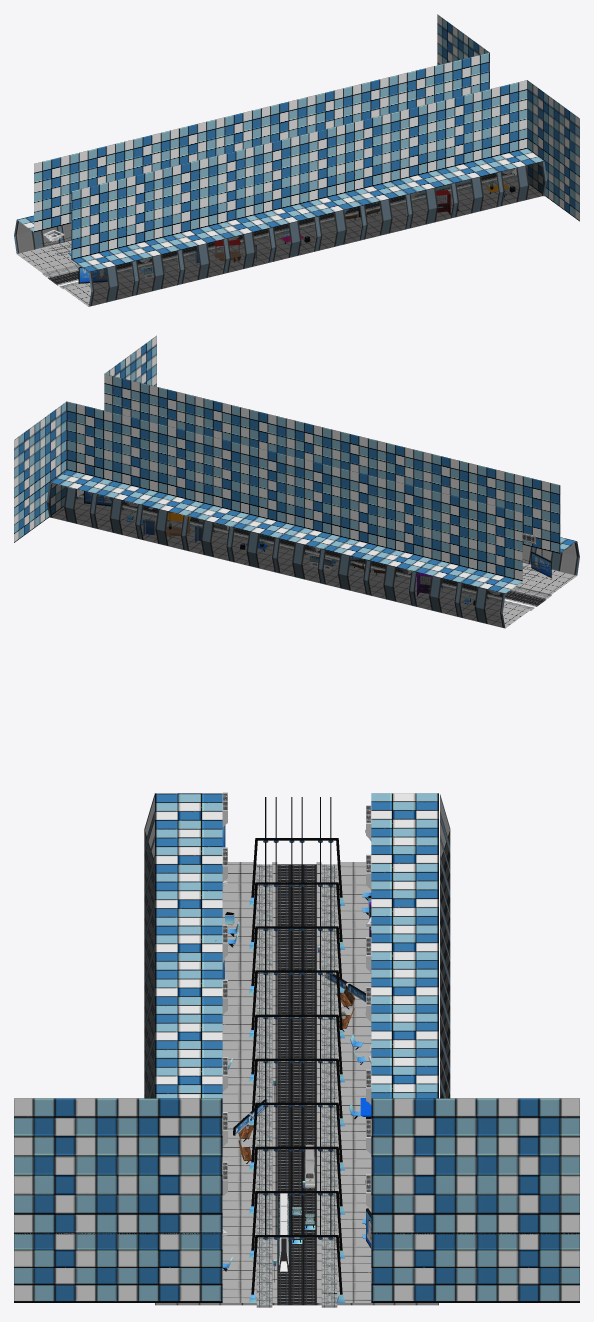
The model's file is subwaysurferstest28.glb.
3 views of the same model, one above another, from view 1: azimuth 30°, elevation 25°; view 2: azimuth 150°, elevation 25°; view 3: azimuth 270°, elevation 25° (orthographic). The views are drawn at different scales.
Visible parts, largest first — view 1: tiledwall.016, tiledwall, tiledwall.005, tiledwall.018, tiledwall.019, tiledwall.024, tiledwall.006, tiledwall.017, tiledwall.003, tiledwall.023, tiledwall.025, tiledwall.001 (+35 smaller); view 2: tiledwall.013, tiledwall.021, tiledwall.025, tiledwall.009, tiledwall.012, tiledwall.022, tiledwall.020, tiledwall.027, tiledwall.007, tiledwall.026, tiledwall.024, tiledwall.008 (+36 smaller); view 3: tiledwall.014, tiledwall.008, tiledwall.002, tiledwall.001, tiledwall.010, tiledwall.004, tiledwall.015, tiledwall.011, tiledwall.017, tiledwall.018, tiledwall.019, tiledwall.020 (+40 smaller).
Boxes of the visible parts, x1,y1,x2,y2 form: tiledwall.016: (162, 158, 224, 249); tiledwall: (481, 80, 543, 171); tiledwall.005: (390, 102, 452, 194); tiledwall.018: (253, 136, 316, 227); tiledwall.019: (208, 147, 270, 238); tiledwall.024: (71, 180, 133, 272); tiledwall.006: (345, 113, 407, 205); tiledwall.017: (299, 124, 361, 216); tiledwall.003: (436, 91, 498, 183); tiledwall.023: (117, 169, 179, 260); tiledwall.025: (17, 152, 79, 232); tiledwall.001: (527, 80, 553, 167); tiledwall.013: (50, 401, 112, 493); tiledwall.021: (278, 457, 340, 548); tiledwall.025: (460, 501, 522, 593); tiledwall.009: (141, 423, 203, 515); tiledwall.012: (95, 412, 157, 504); tiledwall.022: (232, 446, 294, 537); tiledwall.020: (323, 468, 385, 560); tiledwall.027: (369, 479, 431, 571); tiledwall.007: (187, 435, 248, 526); tiledwall.026: (415, 490, 476, 582); tiledwall.024: (514, 474, 576, 553); tiledwall.008: (14, 421, 40, 508); tiledwall.014: (371, 1098, 475, 1234); tiledwall.008: (475, 1098, 579, 1234); tiledwall.002: (14, 1098, 118, 1234); tiledwall.001: (118, 1098, 222, 1234); tiledwall.010: (14, 1233, 118, 1302); tiledwall.004: (118, 1233, 222, 1302); tiledwall.015: (371, 1233, 475, 1302); tiledwall.011: (475, 1233, 579, 1302); tiledwall.017: (155, 1013, 222, 1057); tiledwall.018: (155, 969, 222, 1013); tiledwall.019: (155, 925, 222, 969); tiledwall.020: (371, 925, 438, 969).
Size of the model in its own units: 403 by 88.5 by 217.
4 materials, 4 textured.
